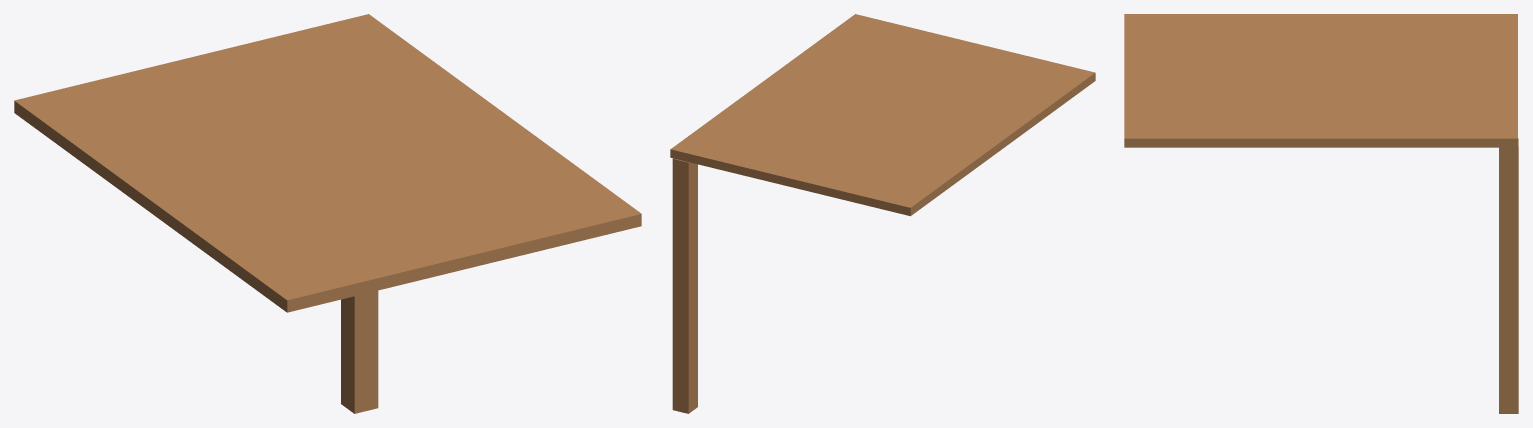
File: Meja Belajar Kayu.glb
The picture shows the model from 3 angles, left to right: view 1: azimuth 30°, elevation 25°; view 2: azimuth 150°, elevation 25°; view 3: azimuth 270°, elevation 25°; orthographic projection. The views are drawn at different scales.
Parts seen in each view (by area): view 1: Cube, Cube.001; view 2: Cube, Cube.001; view 3: Cube, Cube.001.
Part boxes in pixels (x1=…): Cube: x1=14, y1=14, x2=641, y2=312; Cube.001: x1=341, y1=290, x2=378, y2=413; Cube: x1=670, y1=14, x2=1095, y2=216; Cube.001: x1=672, y1=158, x2=697, y2=413; Cube: x1=1124, y1=14, x2=1517, y2=147; Cube.001: x1=1499, y1=138, x2=1518, y2=413.
Bounding box in the file's own units: 1.5 × 1.55 × 2.
